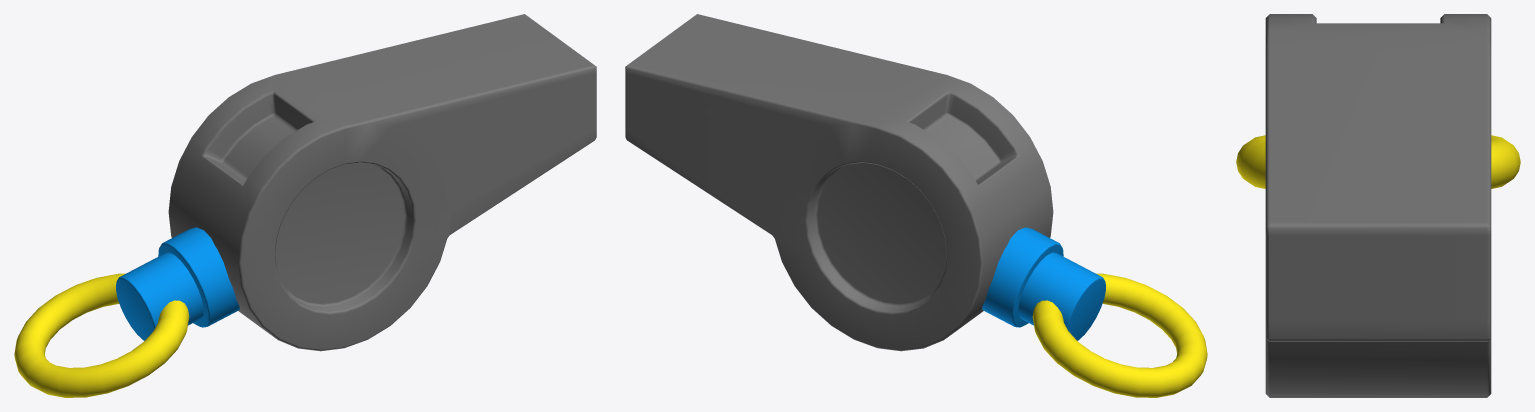
Rendered from Public_16_Police_Whistle_1.glb.
3 views of the same model, side by side, from view 1: azimuth 30°, elevation 25°; view 2: azimuth 150°, elevation 25°; view 3: azimuth 270°, elevation 25° (orthographic). The views are drawn at different scales.
Visible parts, largest first — view 1: Public_16_Police_Whistle_1; view 2: Public_16_Police_Whistle_1; view 3: Public_16_Police_Whistle_1.
Part boxes in pixels (x1,y1,x2,y2): Public_16_Police_Whistle_1: [14, 14, 596, 397]; Public_16_Police_Whistle_1: [625, 14, 1207, 397]; Public_16_Police_Whistle_1: [1236, 14, 1520, 397].
Bounding box in the file's own units: 1.4 × 0.5555 × 0.4117.
Materials: 1 (1 with a texture image).
